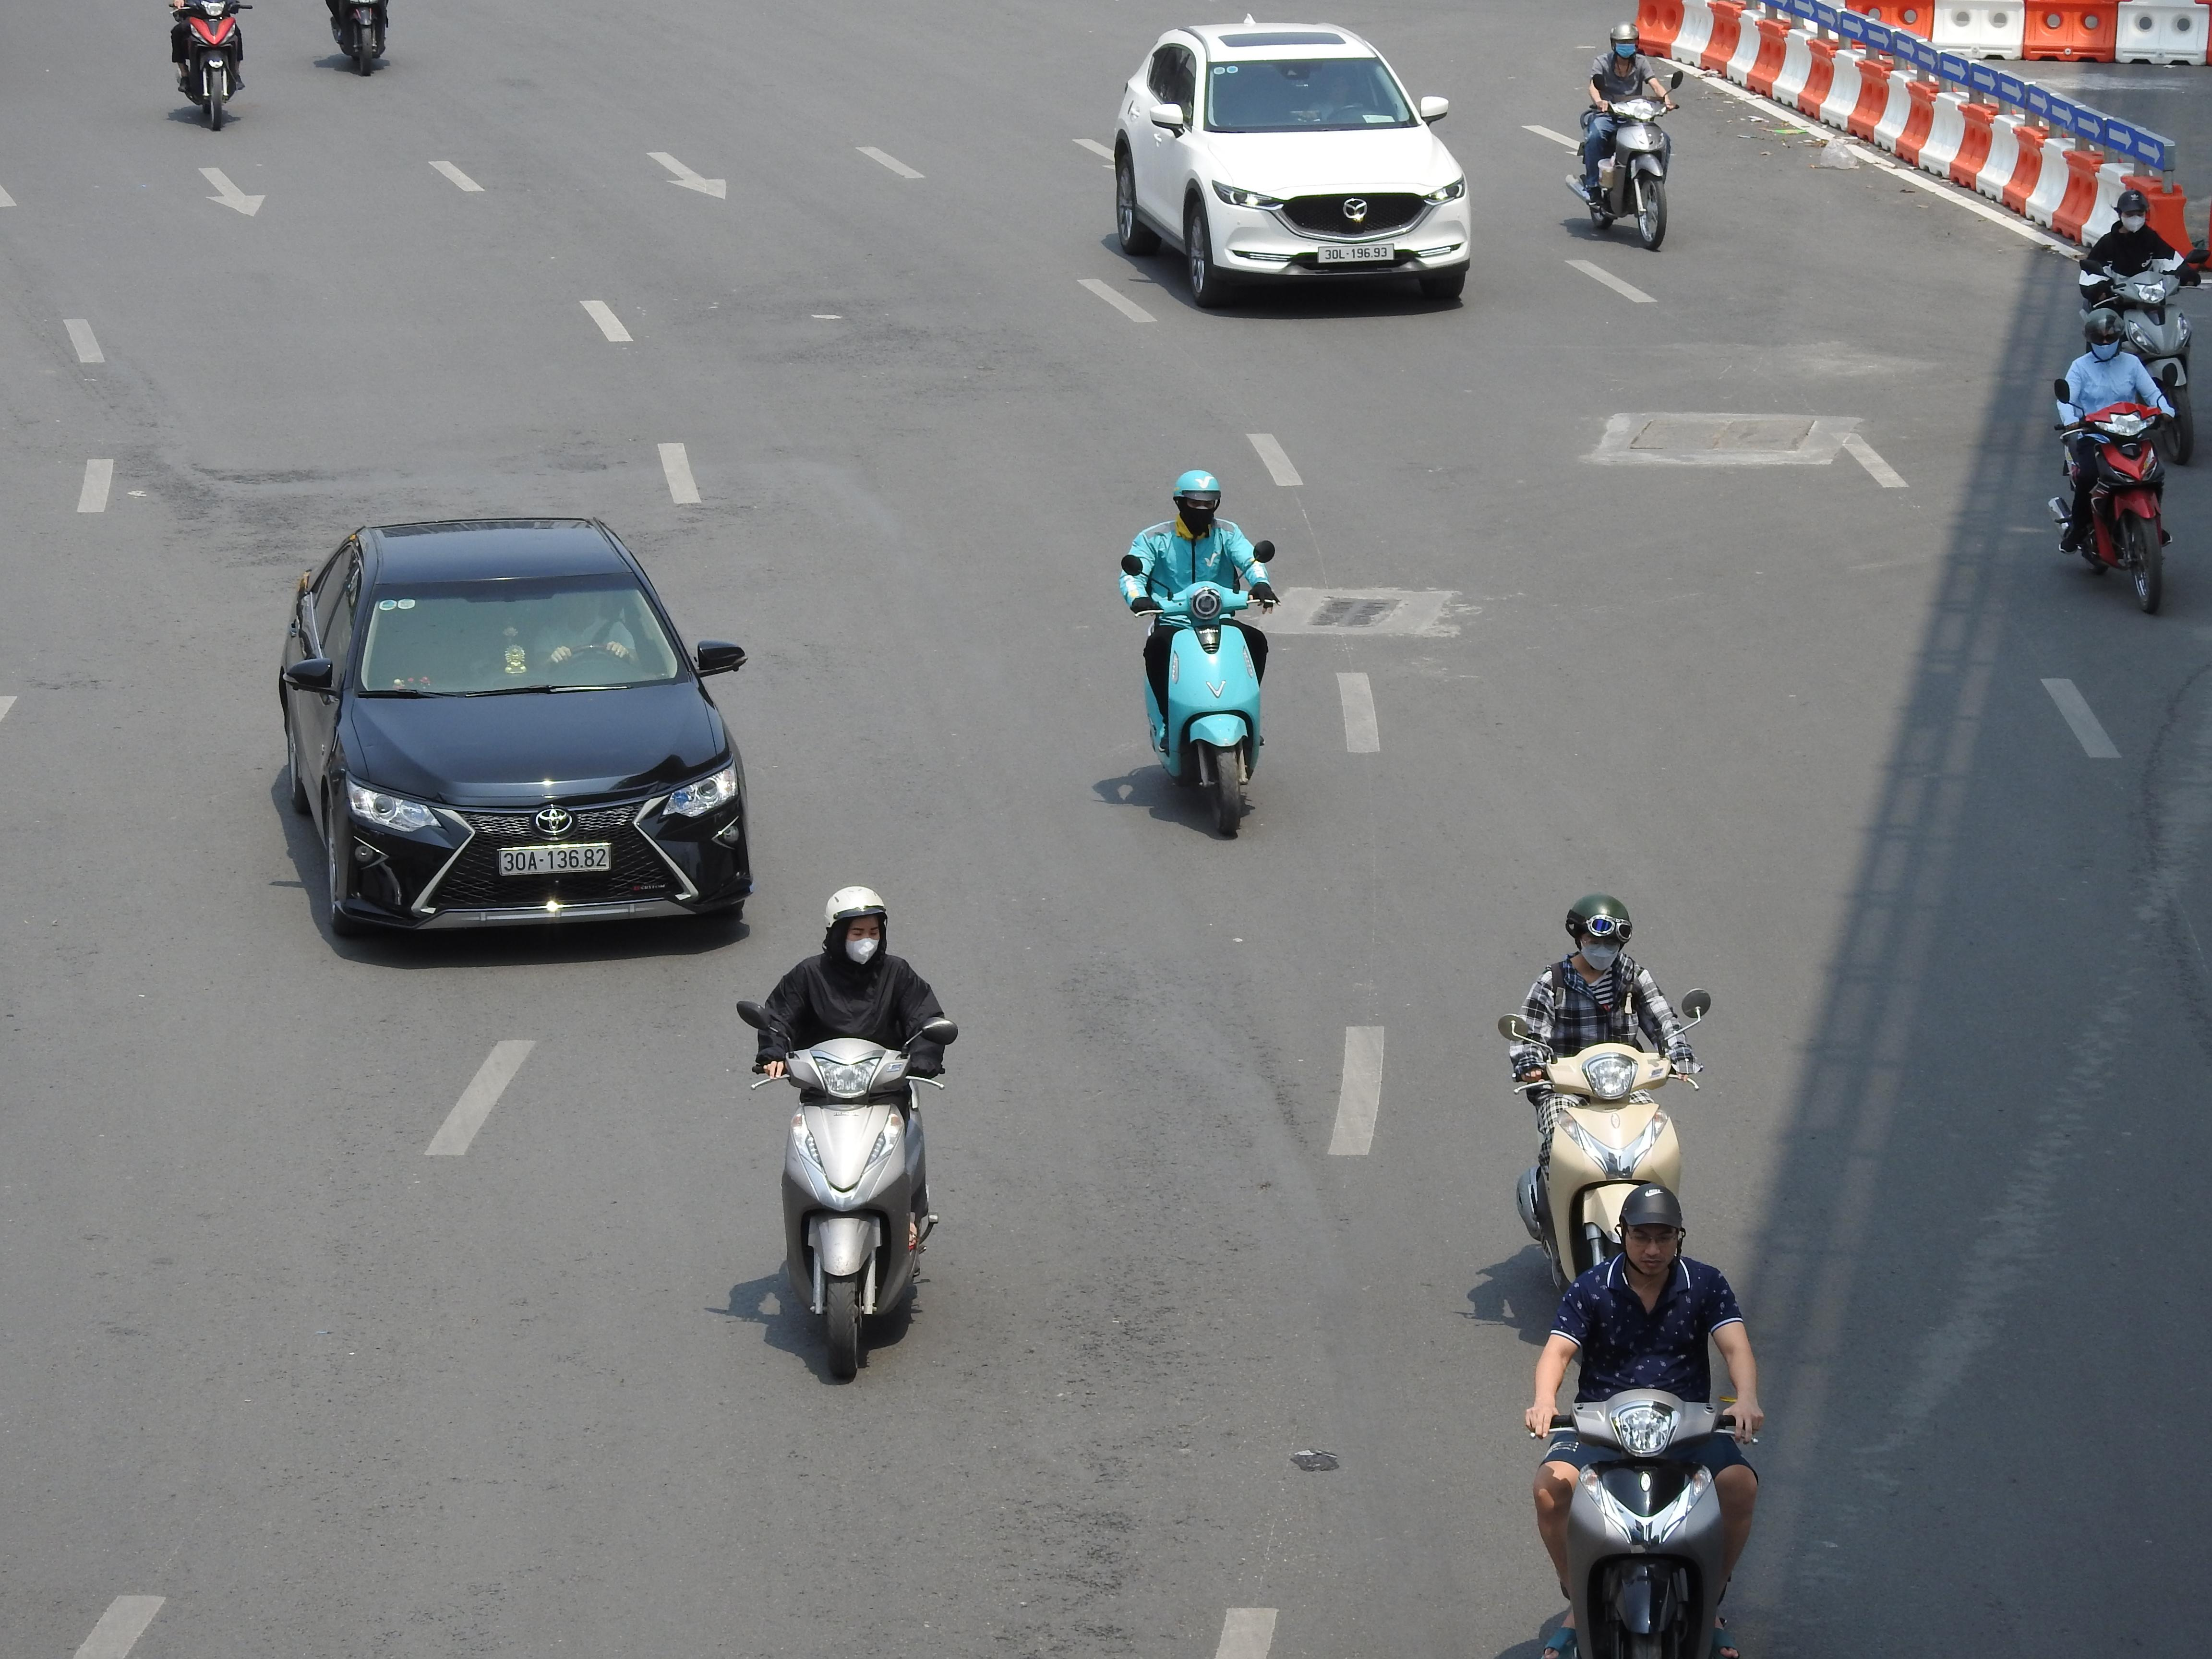BSD: (498, 843, 611, 875), (1317, 242, 1395, 263)
car: (272, 514, 754, 945), (1108, 21, 1472, 312)
motorbike: (1521, 1180, 1763, 1657), (738, 882, 954, 1385), (1503, 892, 1709, 1300), (1123, 469, 1277, 842), (2052, 303, 2177, 617), (1571, 21, 1679, 253), (2076, 188, 2193, 396), (167, 0, 253, 131)
